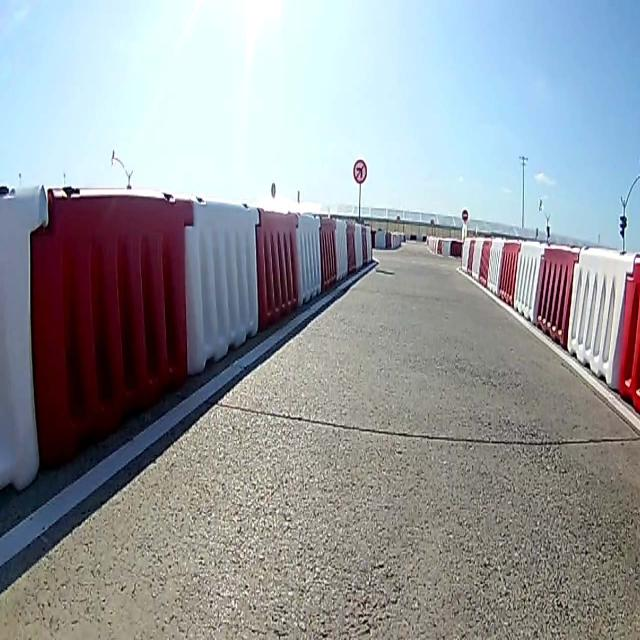soladonulmez: (352, 154, 368, 184)
